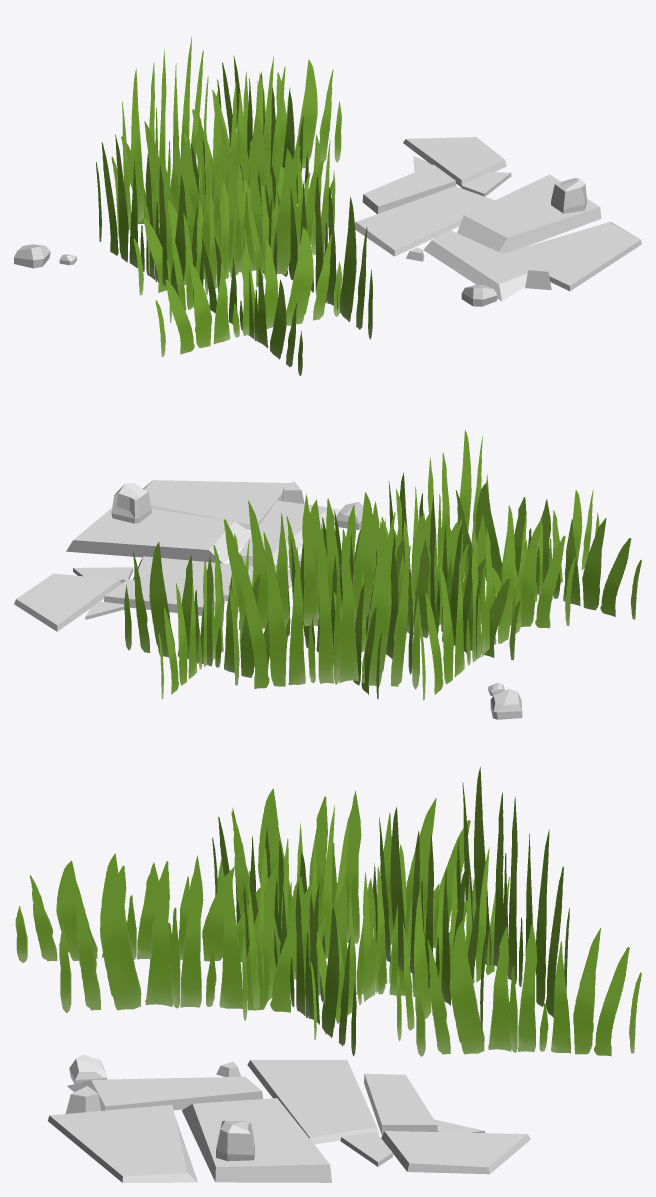
File: CaillouxMur1.fbx
The picture shows the model from 3 angles, top to bottom: view 1: azimuth 30°, elevation 25°; view 2: azimuth 150°, elevation 25°; view 3: azimuth 270°, elevation 25°; orthographic projection. The views are drawn at different scales.
Parts seen in each view (by area): view 1: CaillouxMur1; view 2: CaillouxMur1; view 3: CaillouxMur1.
Part boxes in pixels (left/top/right/bottom): CaillouxMur1: left=14, top=36, right=641, bottom=375; CaillouxMur1: left=14, top=430, right=641, bottom=719; CaillouxMur1: left=15, top=767, right=641, bottom=1182.
Size of the model in its own units: 172 by 57.9 by 154.
